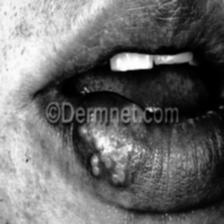Toxin: (80, 115, 131, 185)
